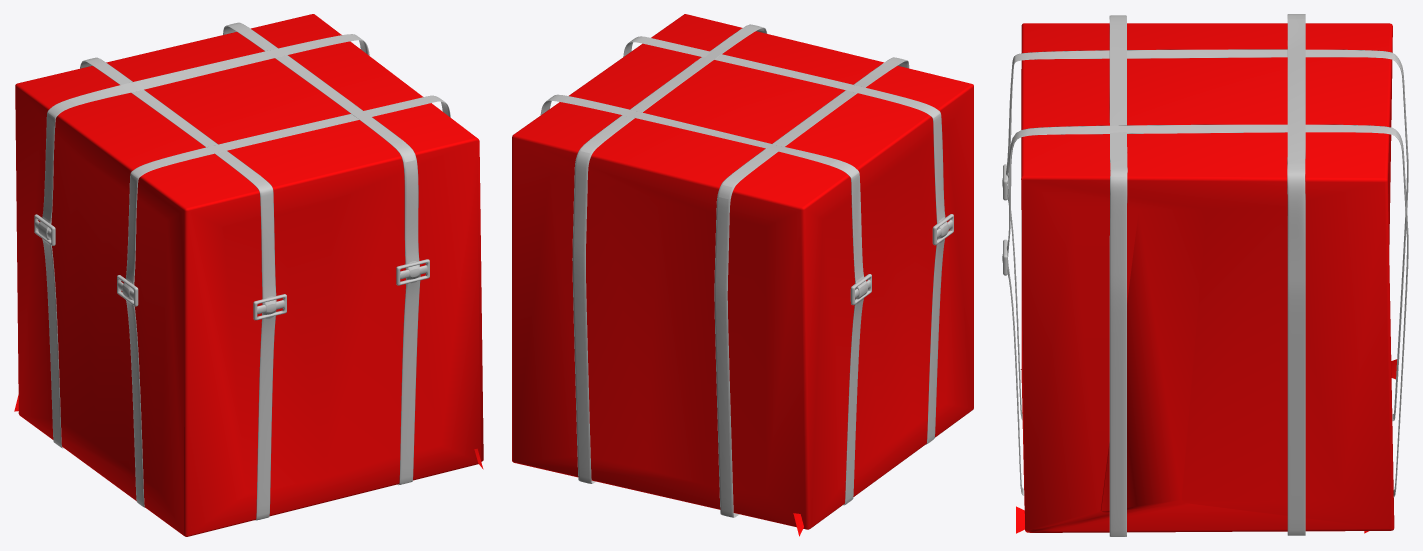
File: red_supply_box.obj
3 views of the same model, side by side, from view 1: azimuth 30°, elevation 25°; view 2: azimuth 150°, elevation 25°; view 3: azimuth 270°, elevation 25° (orthographic). The views are drawn at different scales.
Visible parts, largest first — view 1: Cube.002, Cube.006; view 2: Cube.002, Cube.006; view 3: Cube.002, Cube.006.
Part boxes in pixels (box(x1,y1,x2,y2)): Cube.002: box(14, 14, 483, 536); Cube.006: box(38, 22, 450, 520); Cube.002: box(512, 14, 973, 536); Cube.006: box(540, 24, 948, 517); Cube.002: box(1016, 23, 1396, 533); Cube.006: box(1002, 14, 1408, 536).
Size of the model in its own units: 1.17 by 1.18 by 1.17.
